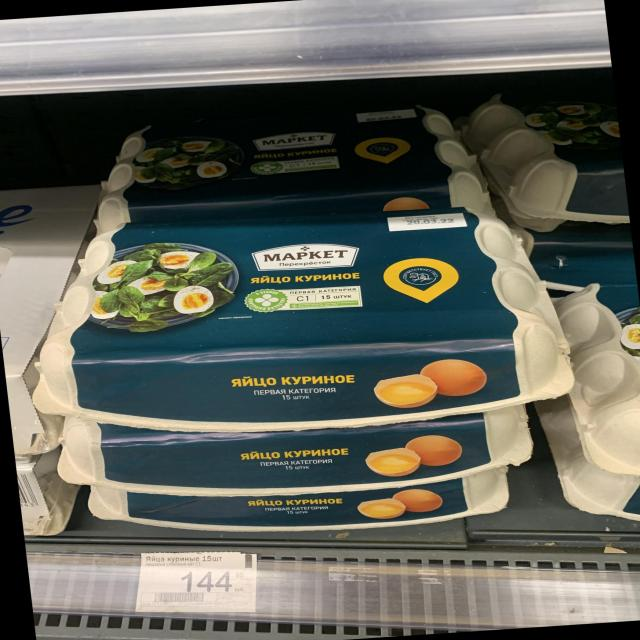organic waste: (12, 190, 585, 449), (89, 95, 486, 224), (56, 402, 539, 496), (494, 116, 630, 234)
